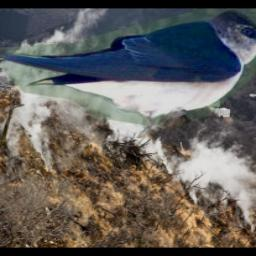Swallow: (0, 9, 256, 139)
